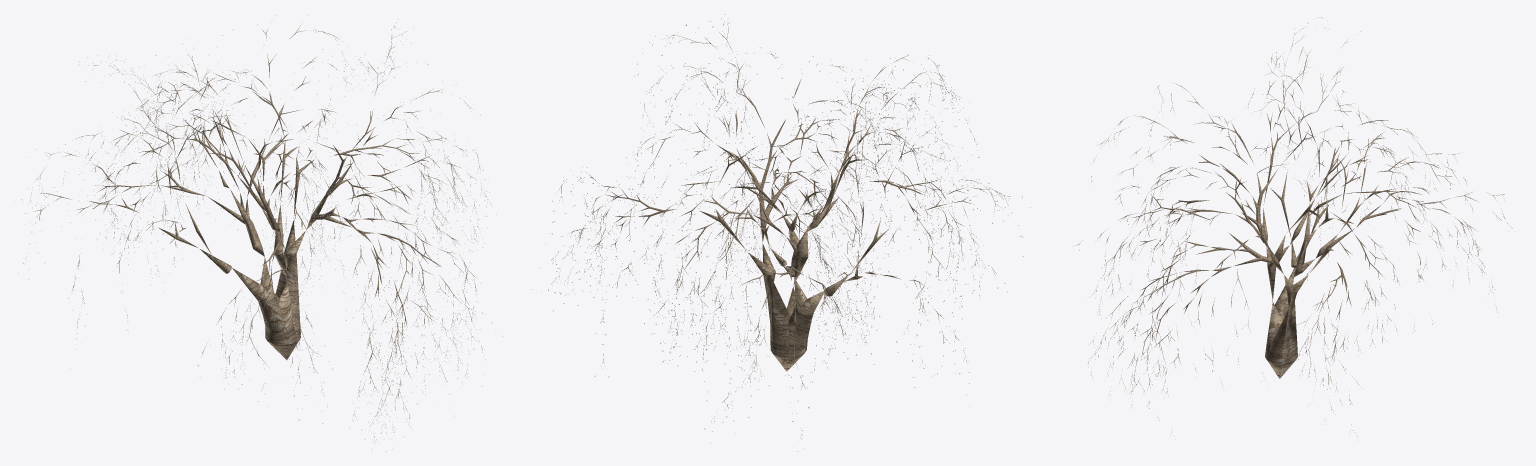
Rendered from sakura-focal-b.glb.
3 views of the same model, side by side, from view 1: azimuth 30°, elevation 25°; view 2: azimuth 150°, elevation 25°; view 3: azimuth 270°, elevation 25° (orthographic). The views are drawn at different scales.
Visible parts, largest first — view 1: 树干, 花位; view 2: 树干, 花位; view 3: 树干.
Part boxes in pixels (x1,y1,x2,y2): 树干: (25,25,486,439); 花位: (14,15,502,451); 树干: (551,24,1010,435); 花位: (532,14,1030,451); 树干: (1076,17,1512,436).
Bounding box in the file's own units: 10.74 × 9.5 × 10.87.
Materials: 2 (1 with a texture image).
